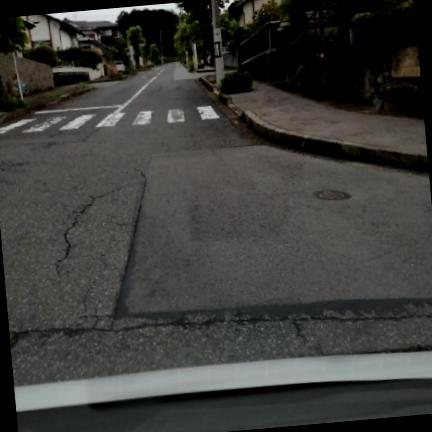Road: (0, 65, 431, 385)
